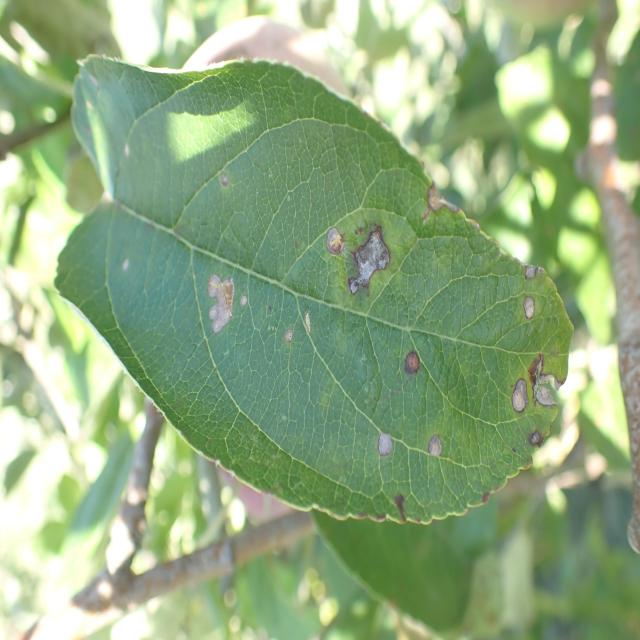frog-eye-leaf-spot: (53, 56, 577, 524)
